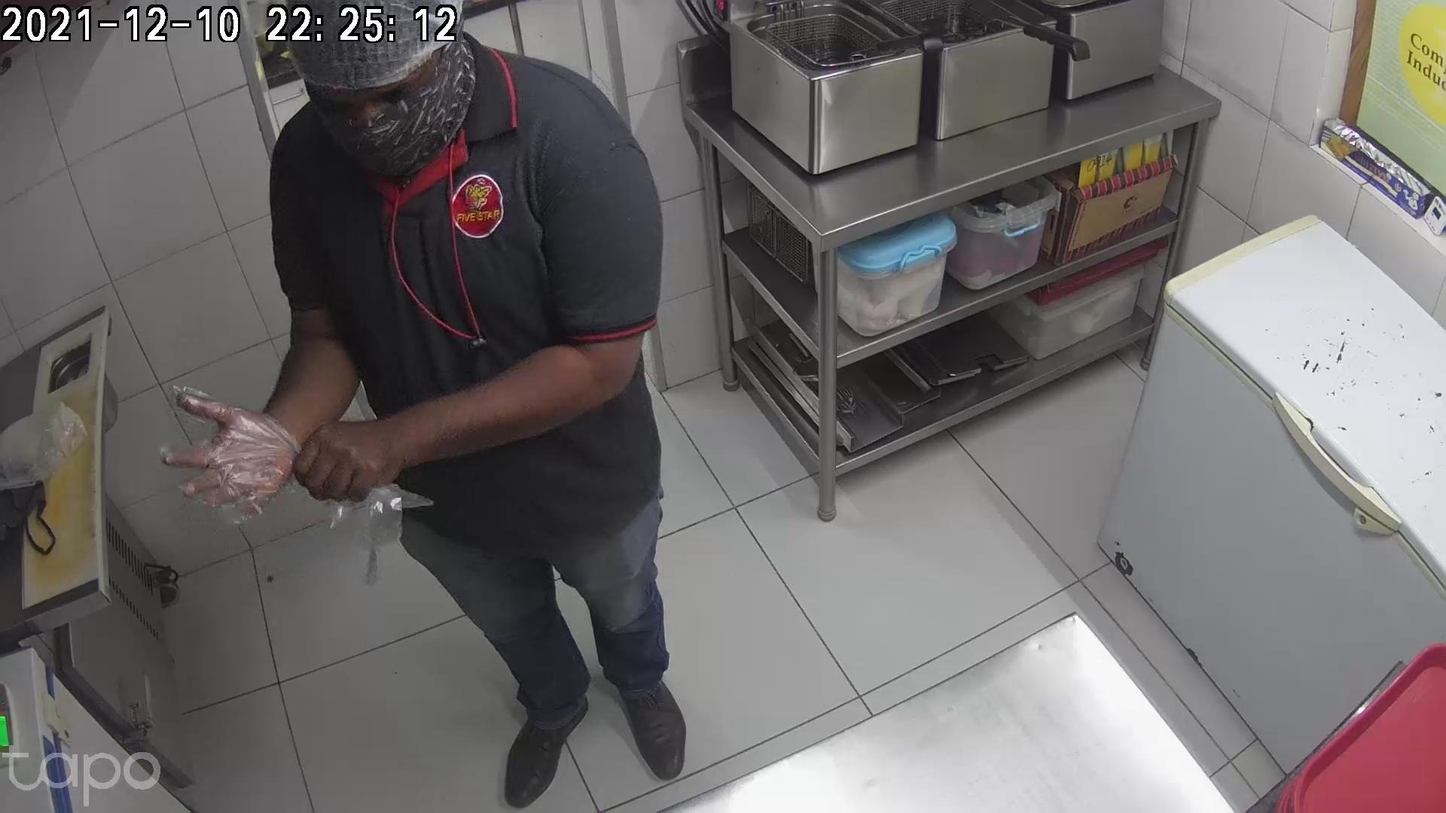gloves: (158, 395, 297, 525)
no_gloves: (292, 426, 437, 495)
